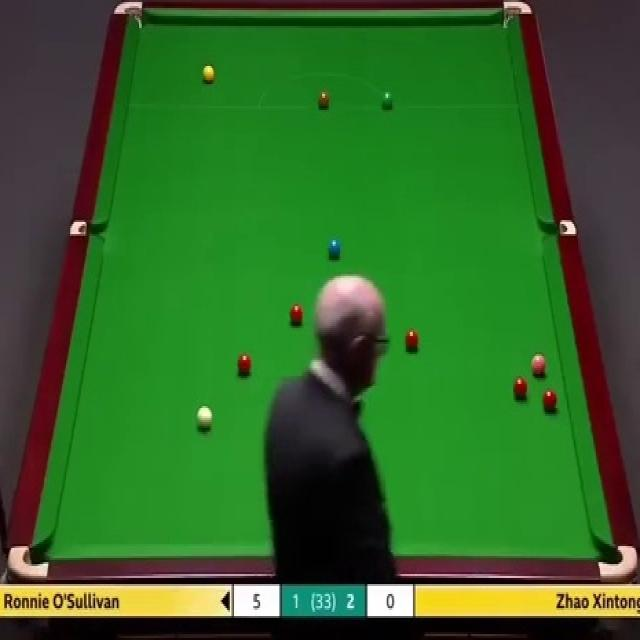pocket: (595, 540, 638, 582), (6, 543, 50, 579), (501, 0, 531, 34), (112, 0, 145, 28), (537, 220, 577, 237), (69, 220, 106, 237)
